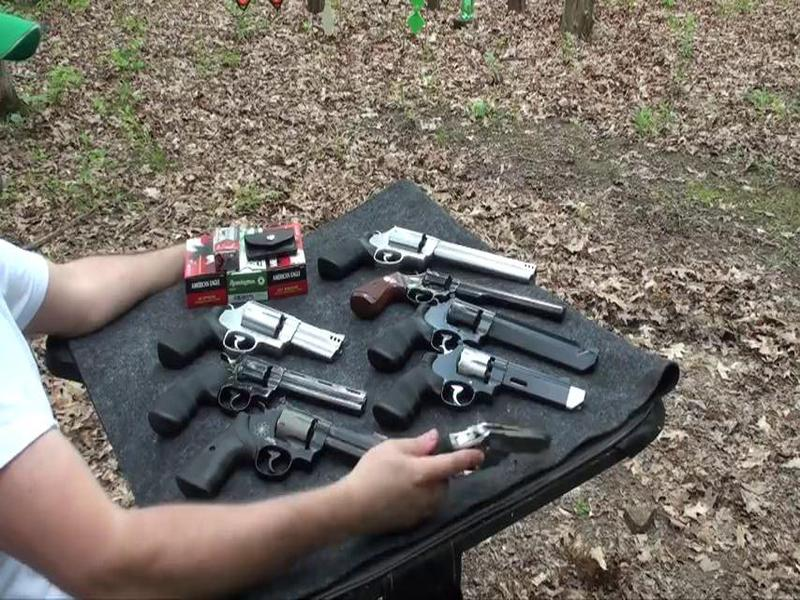Revolver: (133, 357, 378, 432)
